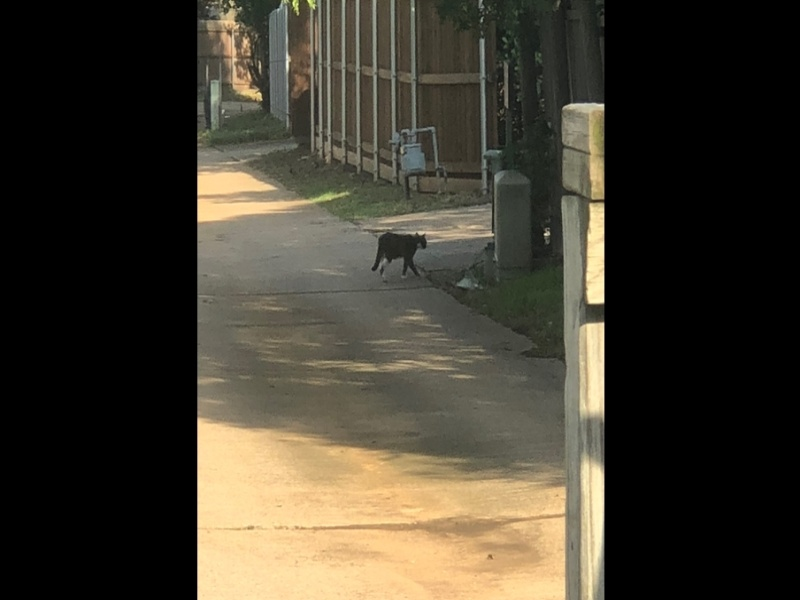cat: (371, 229, 428, 283)
